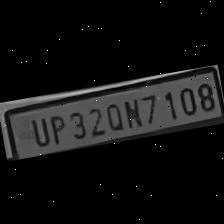0: (174, 80, 198, 116)
1: (156, 86, 179, 122)
2: (82, 101, 106, 137)
3: (63, 105, 88, 140)
7: (136, 88, 161, 125)
8: (192, 78, 216, 112)
N: (119, 92, 144, 128)
P: (44, 109, 67, 145)
Q: (101, 96, 125, 132)
U: (24, 112, 50, 148)
